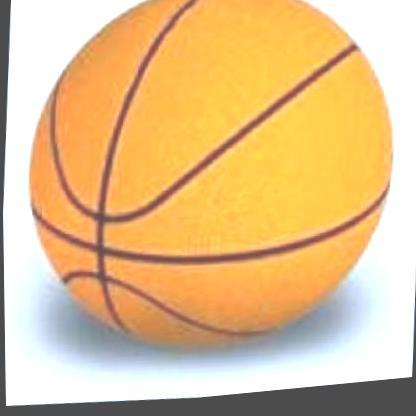basketball: (4, 0, 412, 387)
